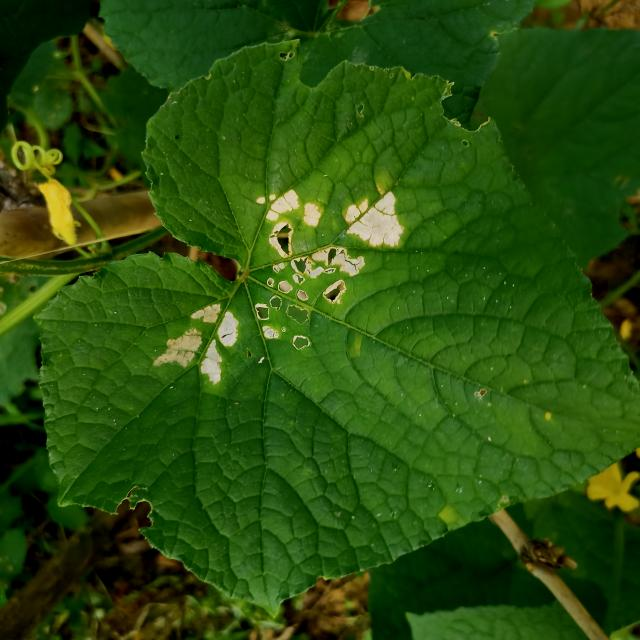disease_cucumber: (252, 189, 409, 360), (149, 297, 245, 393)
